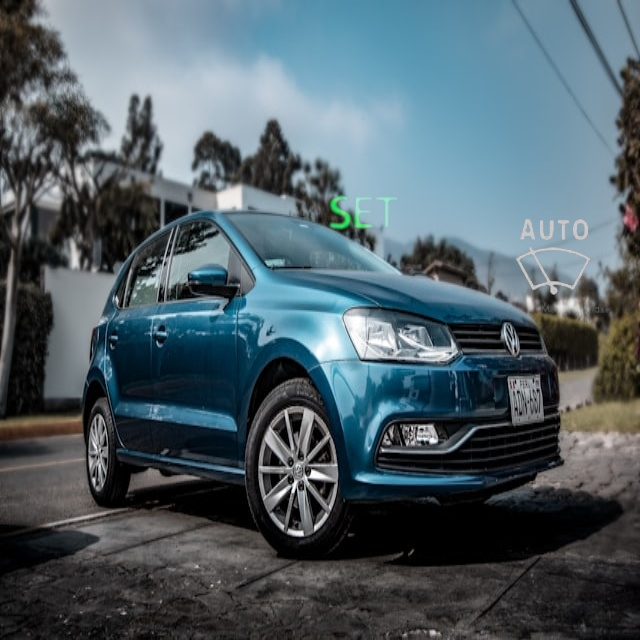symbol: (302, 151, 427, 276), (493, 197, 615, 319)
